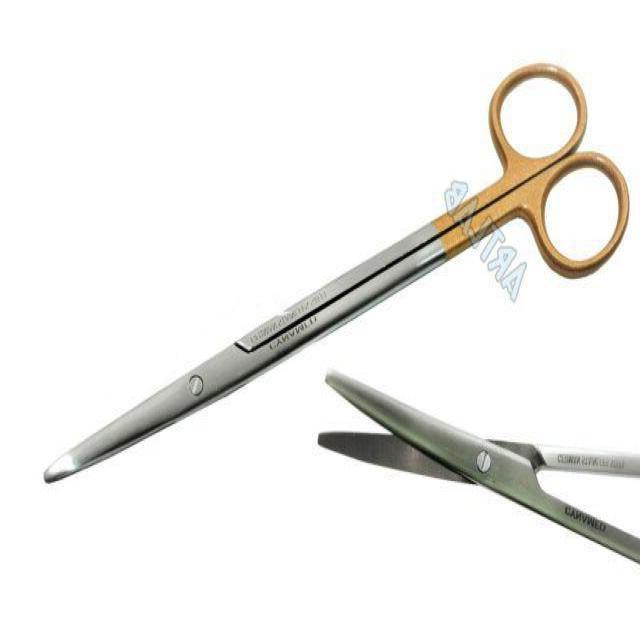Mayo_metz: (40, 60, 633, 490), (314, 366, 640, 568)
